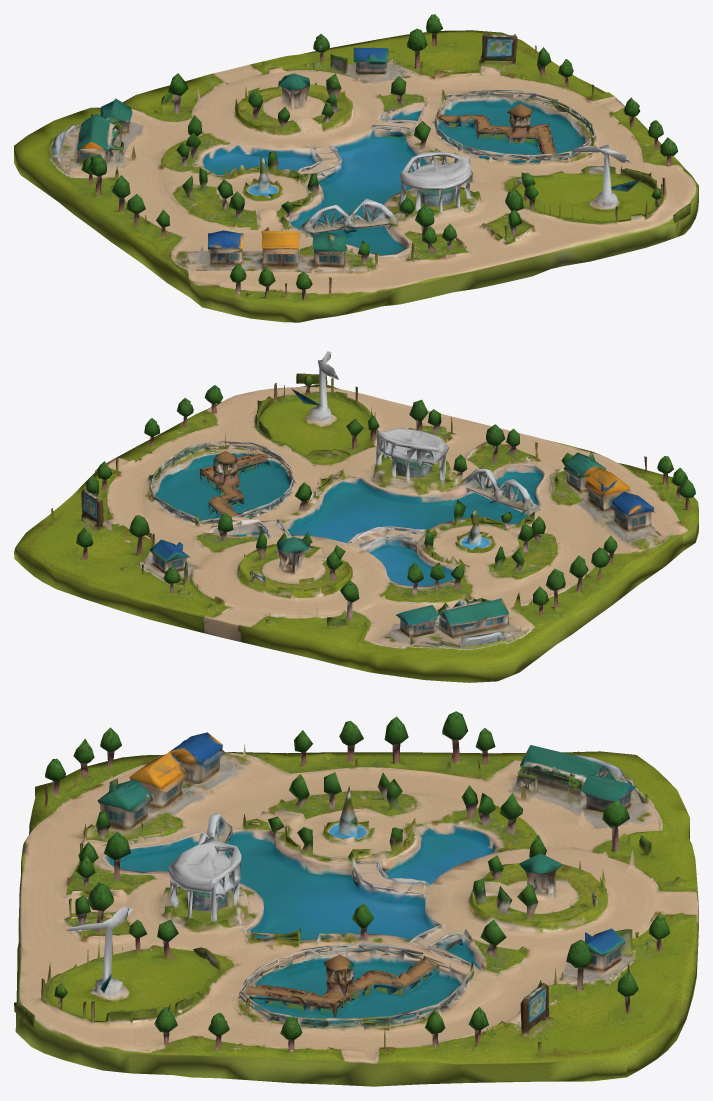
File: sejong-lake-park.glb
3 views of the same model, one above another, from view 1: azimuth 30°, elevation 25°; view 2: azimuth 150°, elevation 25°; view 3: azimuth 270°, elevation 25° (orthographic). The views are drawn at different scales.
Visible parts, largest first — view 1: tripo_node_9a550c21-0ad1-4783-82e0-8268632936fe; view 2: tripo_node_9a550c21-0ad1-4783-82e0-8268632936fe; view 3: tripo_node_9a550c21-0ad1-4783-82e0-8268632936fe.
Part boxes in pixels (x1=…): tripo_node_9a550c21-0ad1-4783-82e0-8268632936fe: x1=14, y1=14, x2=698, y2=322; tripo_node_9a550c21-0ad1-4783-82e0-8268632936fe: x1=14, y1=351, x2=698, y2=682; tripo_node_9a550c21-0ad1-4783-82e0-8268632936fe: x1=14, y1=711, x2=698, y2=1086.
Bounding box in the file's own units: 0.9783 × 0.1489 × 0.9008.
1 material, 1 textured.
